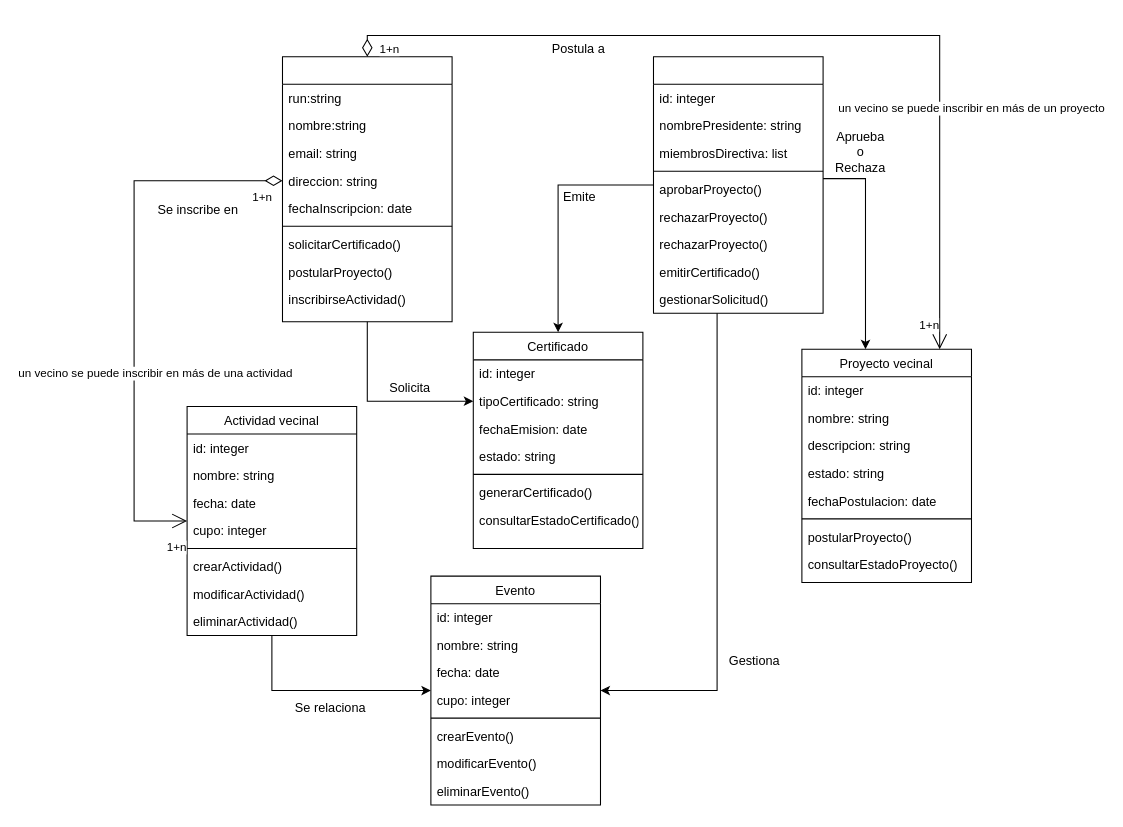
Some shapes in this 1123 by 827 pixel diagram are drawn without their labels. The shapes that lost their labels are listed below. From the top down, each one's box as (x1, y1, x2, y2) in pixels, then its label:
(281, 56, 452, 322): Vecino
(652, 56, 823, 313): Junta Directiva
